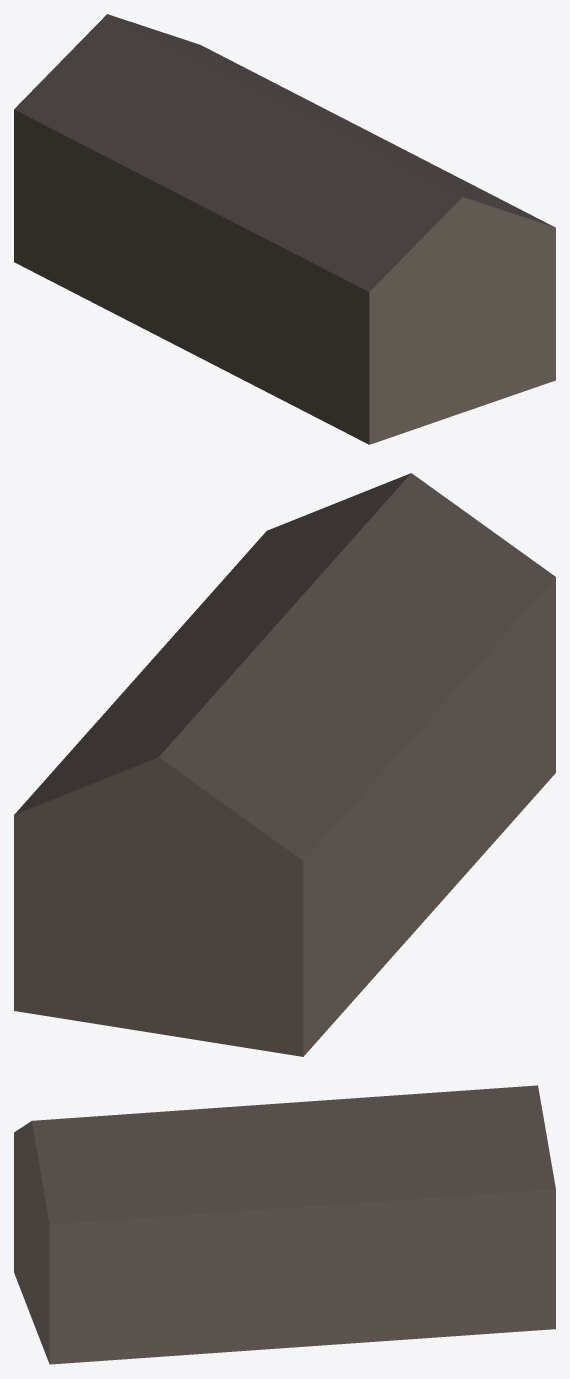
3 views of the same model, one above another, from view 1: azimuth 30°, elevation 25°; view 2: azimuth 150°, elevation 25°; view 3: azimuth 270°, elevation 25° (orthographic). The views are drawn at different scales.
Visible parts, largest first — view 1: HP-w1376988736; view 2: HP-w1376988736; view 3: HP-w1376988736.
Boxes of the visible parts, box(x1,y1,x2,y2) form: HP-w1376988736: box(14, 14, 555, 444); HP-w1376988736: box(14, 473, 555, 1056); HP-w1376988736: box(14, 1085, 555, 1364).
Bounding box in the file's own units: 11.73 × 8.48 × 21.07.
